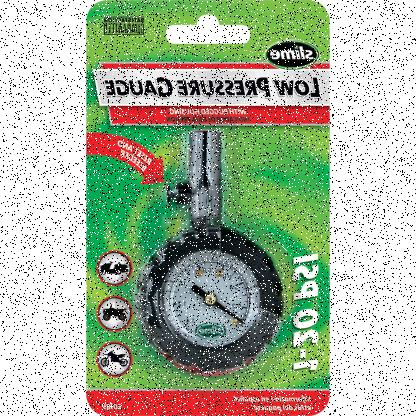needle: (214, 301, 248, 326)
